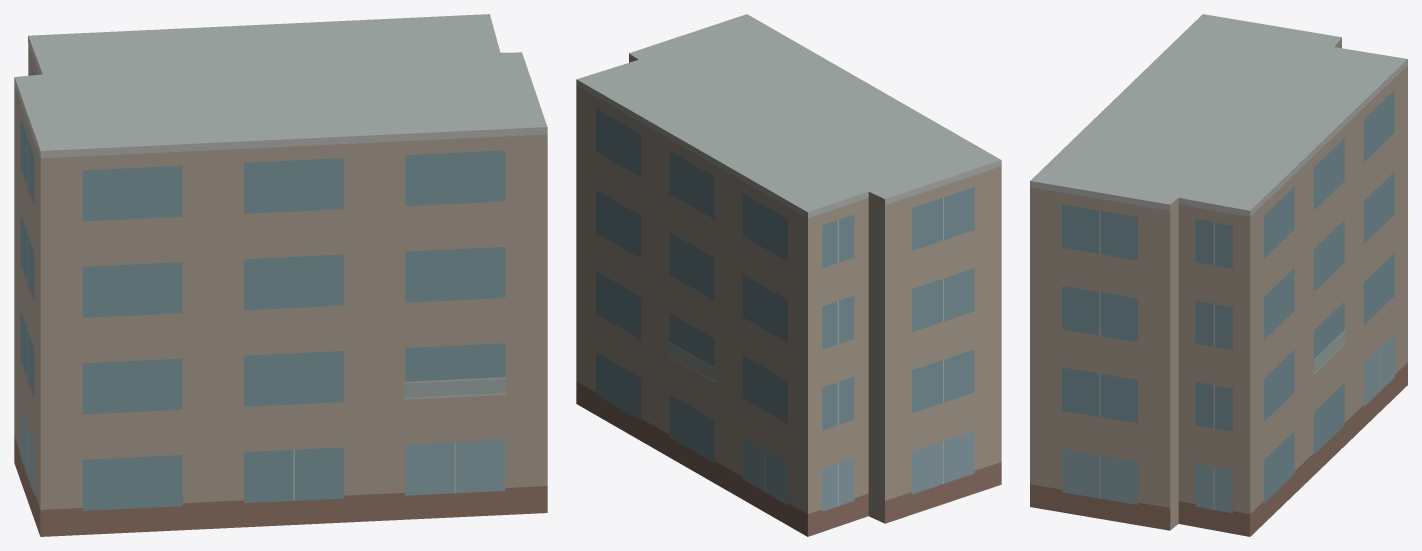
File: survey-upis-32797591.glb
3 views of the same model, side by side, from view 1: azimuth 30°, elevation 25°; view 2: azimuth 150°, elevation 25°; view 3: azimuth 270°, elevation 25° (orthographic). The views are drawn at different scales.
Parts seen in each view (by area): view 1: survey-upis-32797591.tmp; view 2: survey-upis-32797591.tmp; view 3: survey-upis-32797591.tmp.
Boxes of the visible parts, box(x1,y1,x2,y2) form: survey-upis-32797591.tmp: box(14, 14, 547, 536); survey-upis-32797591.tmp: box(576, 14, 1001, 536); survey-upis-32797591.tmp: box(1030, 14, 1407, 536).
Size of the model in its own units: 16.58 by 12.8 by 13.45.
